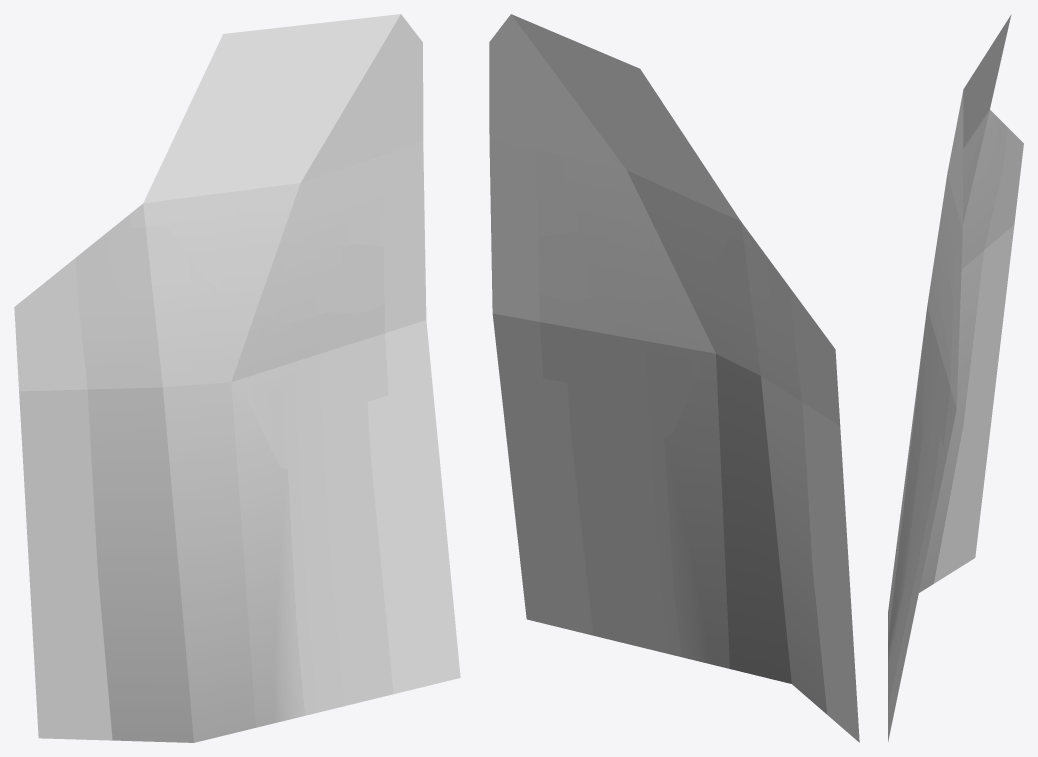
File: Hay.fbx
3 renders of one model, left to right at view 1: azimuth 30°, elevation 25°; view 2: azimuth 150°, elevation 25°; view 3: azimuth 270°, elevation 25°, orthographic.
Parts seen in each view (by area): view 1: Plane; view 2: Plane; view 3: Plane.
Boxes of the visible parts, x1,y1,x2,y2 form: Plane: [14, 14, 460, 742]; Plane: [489, 14, 859, 742]; Plane: [888, 14, 1023, 741].
Bounding box in the file's own units: 123 × 200 × 38.33.
1 material, 1 textured.
